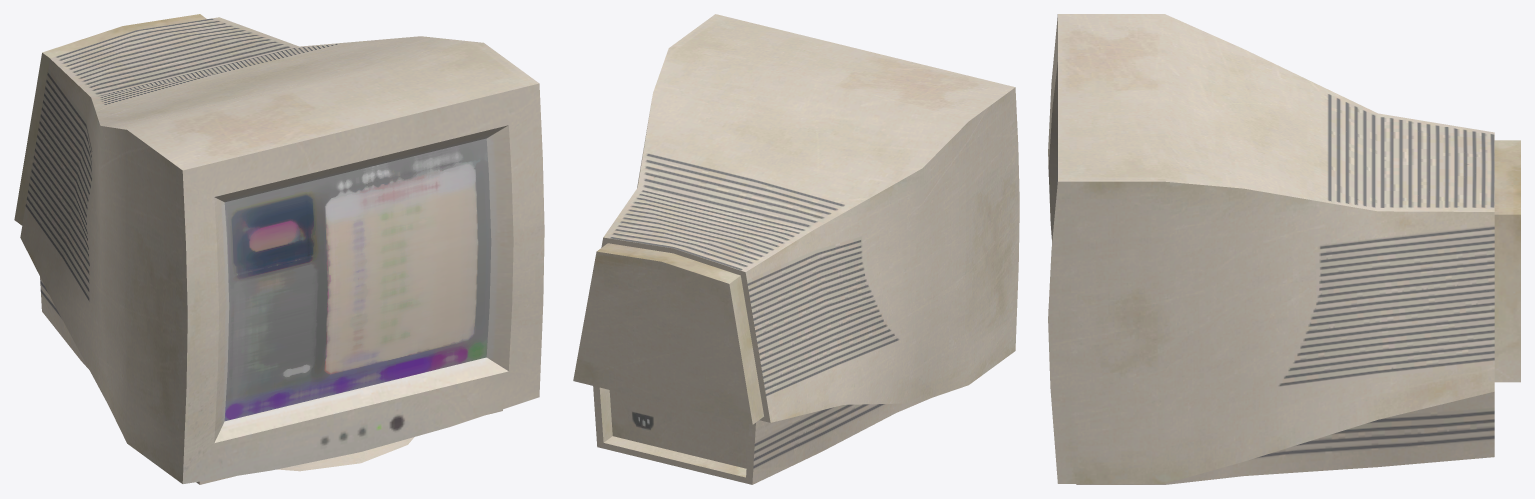
Rendered from B_Computer_0_024.FBX.
3 renders of one model, left to right at view 1: azimuth 30°, elevation 25°; view 2: azimuth 150°, elevation 25°; view 3: azimuth 270°, elevation 25°, orthographic. The views are drawn at different scales.
Parts seen in each view (by area): view 1: B_Computer_0_024_2, B_Computer_0_024_1; view 2: B_Computer_0_024_2; view 3: B_Computer_0_024_2.
Part boxes in pixels (x1,y1,x2,y2): B_Computer_0_024_2: (14,14,544,484); B_Computer_0_024_1: (224,138,491,421); B_Computer_0_024_2: (573,14,1019,484); B_Computer_0_024_2: (1048,14,1520,484).
Size of the model in its own units: 15.44 by 14.01 by 18.4.
2 materials, 2 textured.
